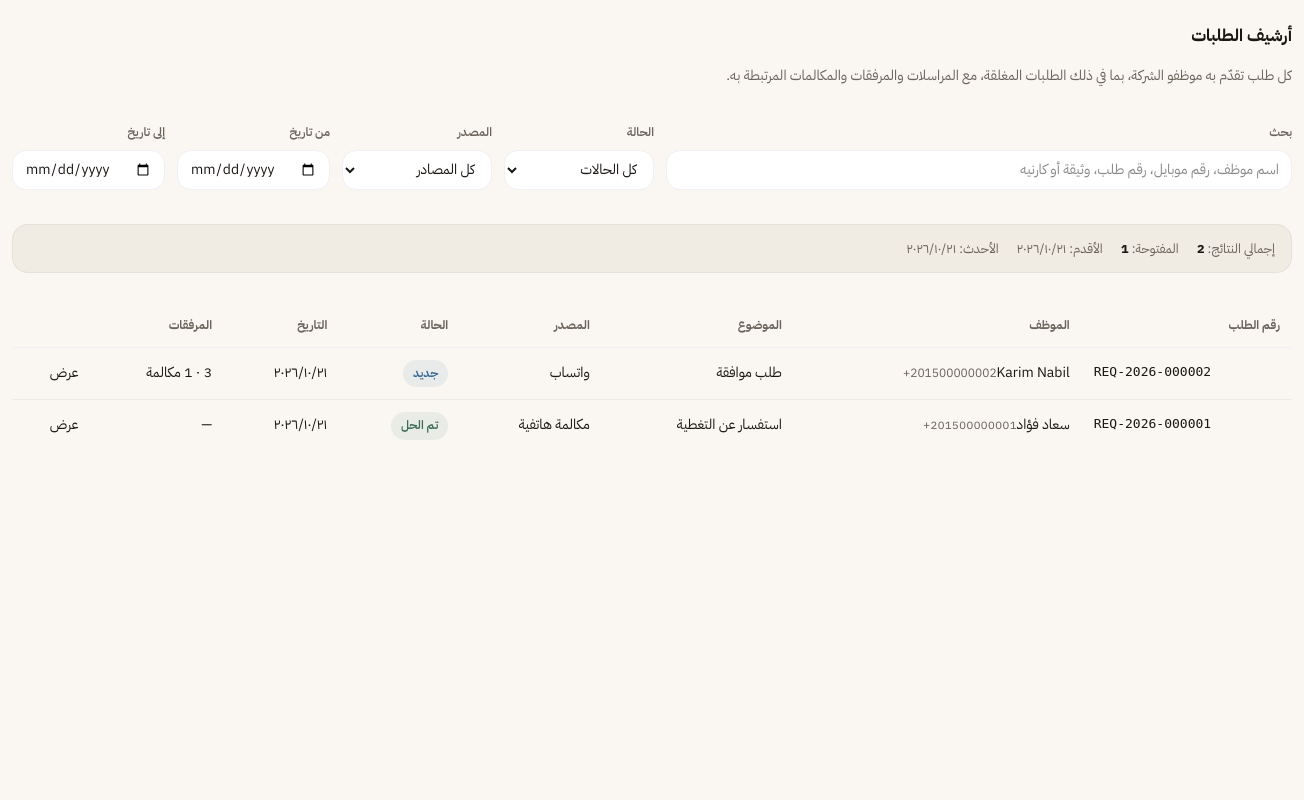
Scenario: RequestArchive › names the reference a request was opened against
Expected: the text "REQ-2026-000001" is shown, [1082,400,1292,452]
Click the button "عرض" in the row of "REQ-2026-000002" at (64, 372), box [50,360,78,385]
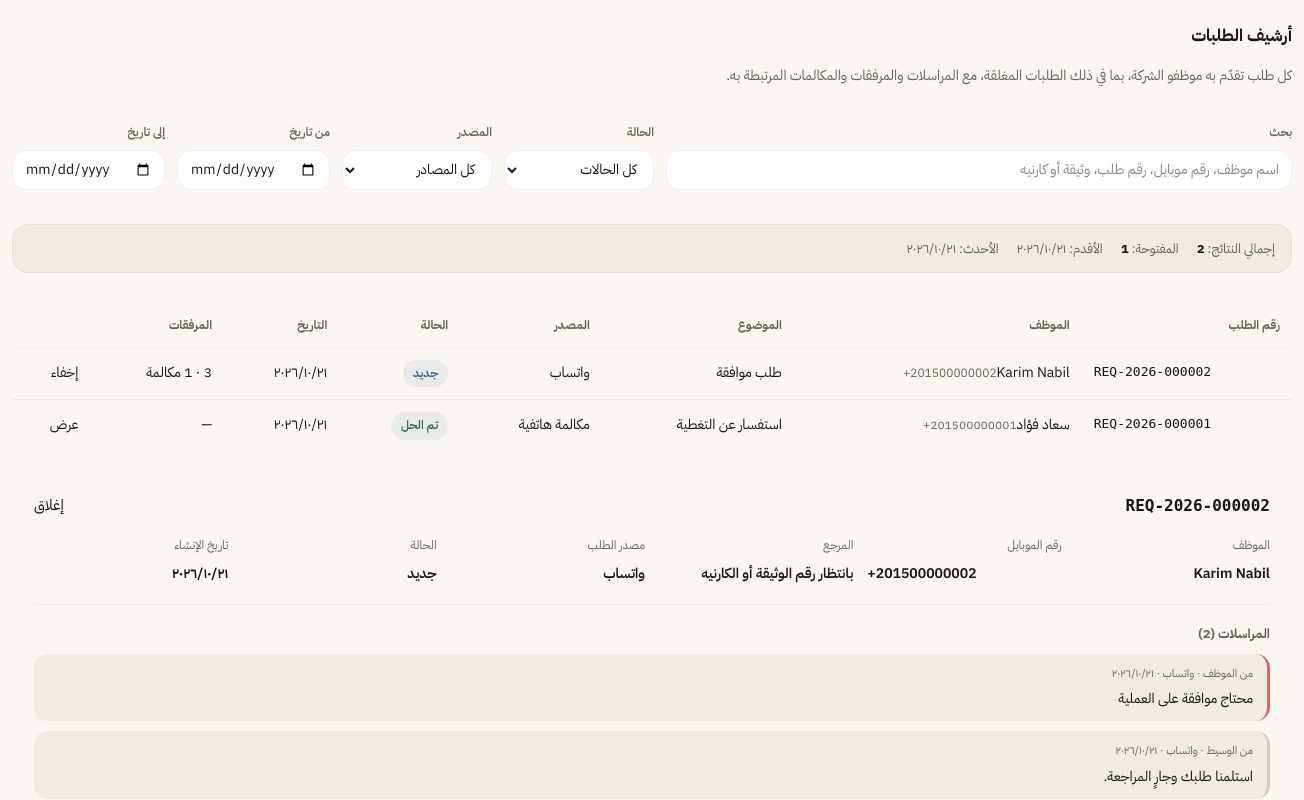
Expected: the text "بانتظار رقم الوثيقة أو الكارنيه" is shown, [701,562,853,584]
